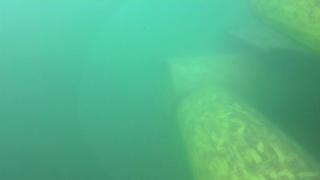pipe: (176, 87, 320, 180), (158, 52, 248, 110), (248, 1, 320, 59)
station: (220, 23, 320, 116)
